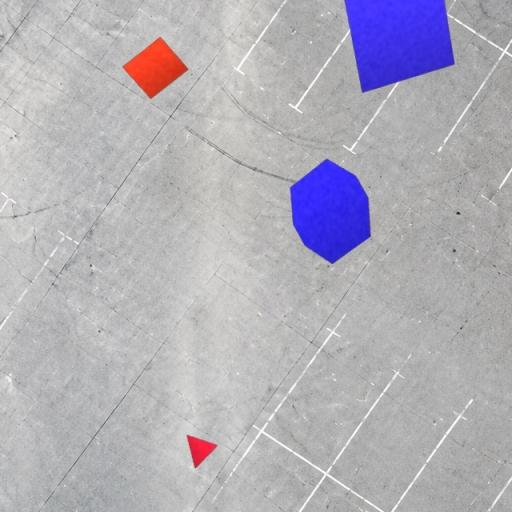BLUE_SQUARE: (343, 0, 455, 94)
RED_SQUARE: (122, 36, 190, 99)
